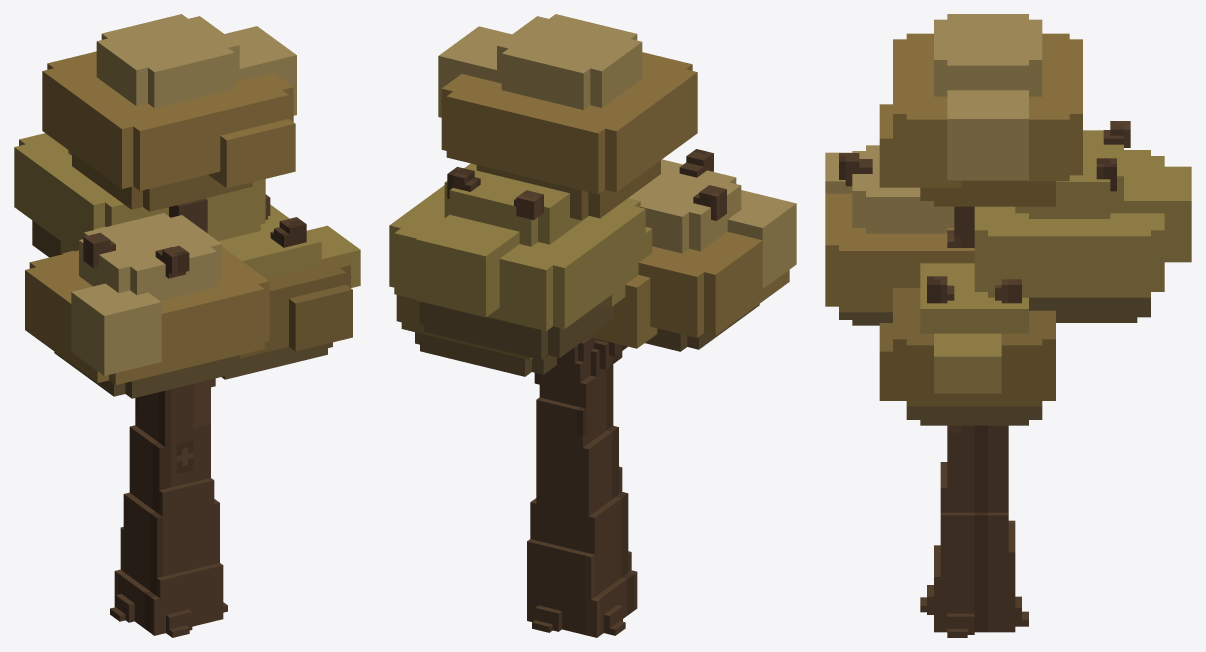
File: apple_sapling_autumn.glb
3 views of the same model, side by side, from view 1: azimuth 30°, elevation 25°; view 2: azimuth 150°, elevation 25°; view 3: azimuth 270°, elevation 25° (orthographic). The views are drawn at different scales.
Parts seen in each view (by area): view 1: VoxelVisual; view 2: VoxelVisual; view 3: VoxelVisual.
Part boxes in pixels (left/top/right/bottom): VoxelVisual: left=14, top=14, right=360, bottom=637; VoxelVisual: left=389, top=14, right=796, bottom=637; VoxelVisual: left=825, top=14, right=1191, bottom=637.
Size of what is drawn, in the model's own units: 3.38 by 5.88 by 3.38.
